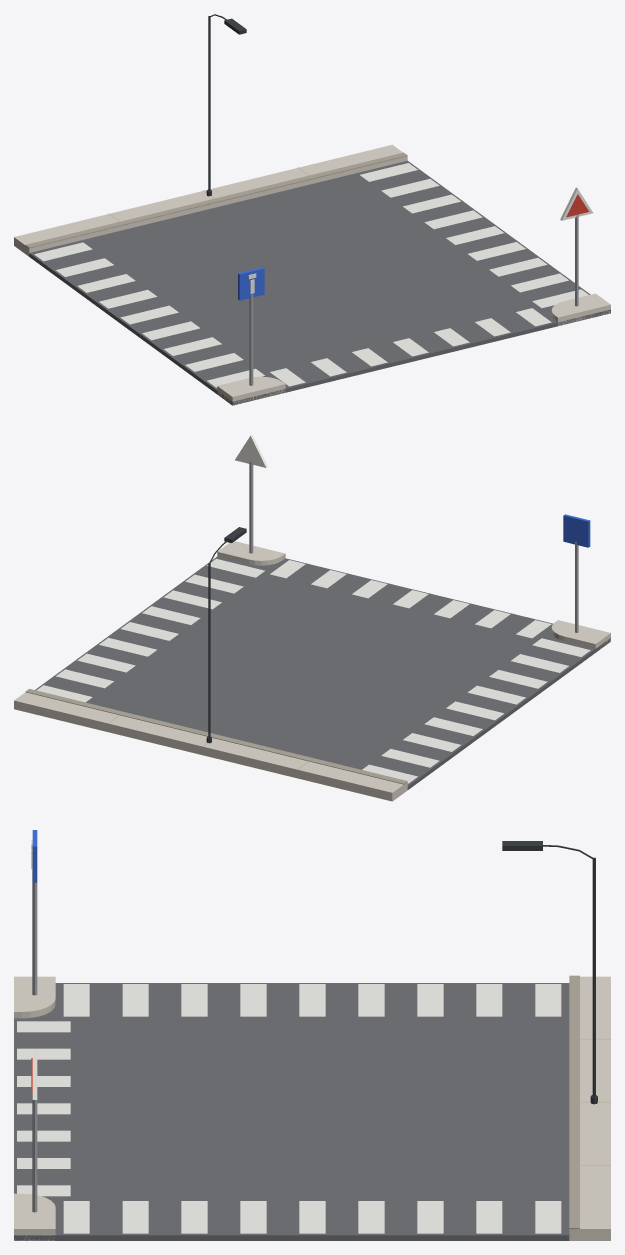
The model's file is Yol_t_cs_Hafif.fbx.
3 renders of one model, top to bottom at view 1: azimuth 30°, elevation 25°; view 2: azimuth 150°, elevation 25°; view 3: azimuth 270°, elevation 25°, orthographic. The views are drawn at different scales.
Visible parts, largest first — view 1: Yol_t_cs_Hafif; view 2: Yol_t_cs_Hafif; view 3: Yol_t_cs_Hafif.
Boxes of the visible parts, box(x1,y1,x2,y2) form: Yol_t_cs_Hafif: box(14, 14, 610, 405); Yol_t_cs_Hafif: box(14, 434, 610, 801); Yol_t_cs_Hafif: box(14, 830, 610, 1240).
Bounding box in the file's own units: 10 × 5.01 × 10.
